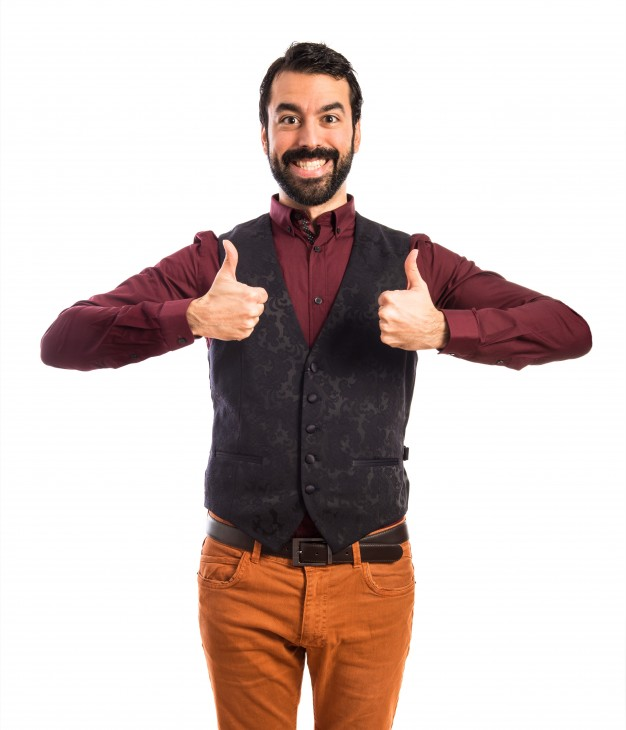thumbsup: (218, 239, 269, 340), (378, 248, 421, 348)
